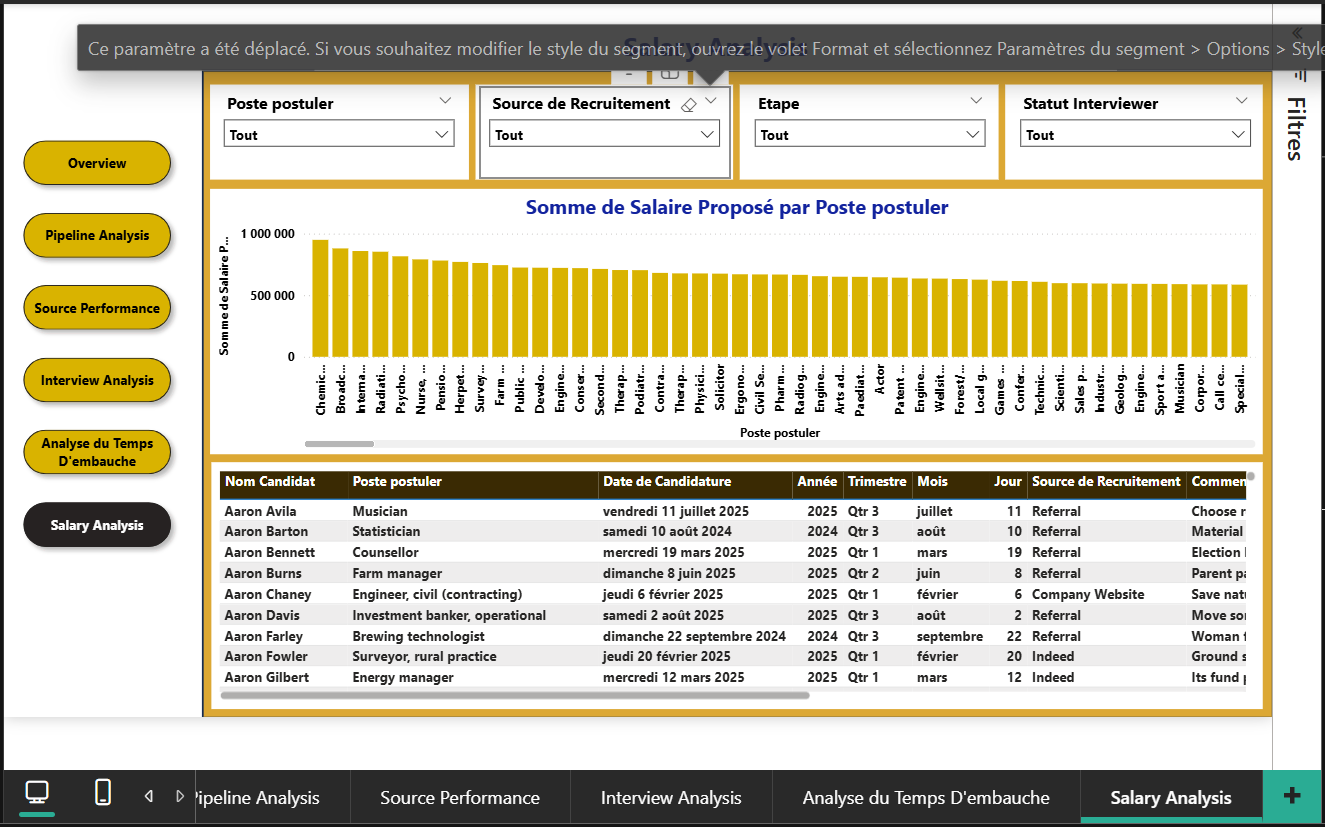

Layout of this report page (visuals, bound fields, positions):
{"tool":"powerbi","page":{"name":"Salary Analysis","canvas":[1280,720],"ordinal":5},"visuals":[{"type":"slicer","fields":{"Values":["Sheet1.Poste postuler"]},"box":[212.5,83.1,252.4,92.7],"z":0},{"type":"slicer","fields":{"Values":["Sheet1.Source de Recruitement"]},"box":[480.4,83.1,252.4,92.7],"z":1000},{"type":"slicer","fields":{"Values":["Sheet1.Etape"]},"box":[748.2,83.1,252.4,92.7],"z":2000},{"type":"slicer","fields":{"Values":["Sheet1.Statut Interviewer"]},"box":[1016.1,83.1,252.4,92.7],"z":3000},{"type":"clusteredColumnChart","fields":{"Category":["Sheet1.Poste postuler"],"Y":["Sum(Sheet1.Salaire Proposé)"]},"box":[212.5,190.1,1056.1,262],"z":3001},{"type":"tableEx","fields":{"Values":["Sheet1.Nom Candidat","Sheet1.Poste postuler","Sheet1.Date de Candidature","Dim Date.Date.Variation.Hiérarchie de dates.Année","Dim Date.Date.Variation.Hiérarchie de dates.Trimestre","Dim Date.Date.Variation.Hiérarchie de dates.Mois","Dim Date.Date.Variation.Hiérarchie de dates.Jour","Sheet1.Source de Recruitement","Sheet1.Commentaire de l'Interviewer a propos de l'experience du candidats"]},"box":[212.5,466.5,1056.1,241.2],"z":3002},{"type":"pageNavigator","box":[11.2,129.4,167.8,433],"z":3003},{"type":"textbox","box":[313.1,17.6,810,49.5],"z":3004}]}

Visuals, with their boxes on the page's 1280x720 design canvas (x1, y1, x2, y2). These are canvas units, not pixel positions in the 1325x827 screenshot, which may show the page scaled, cropped or inside an application window:
slicer - Sheet1.Poste postuler: bbox=[212, 83, 465, 176]
slicer - Sheet1.Source de Recruitement: bbox=[480, 83, 733, 176]
slicer - Sheet1.Etape: bbox=[748, 83, 1001, 176]
slicer - Sheet1.Statut Interviewer: bbox=[1016, 83, 1268, 176]
clusteredColumnChart - Sheet1.Poste postuler x Sum(Sheet1.Salaire Proposé): bbox=[212, 190, 1269, 452]
tableEx - Sheet1.Nom Candidat x Sheet1.Poste postuler: bbox=[212, 466, 1269, 708]
pageNavigator: bbox=[11, 129, 179, 562]
textbox: bbox=[313, 18, 1123, 67]
